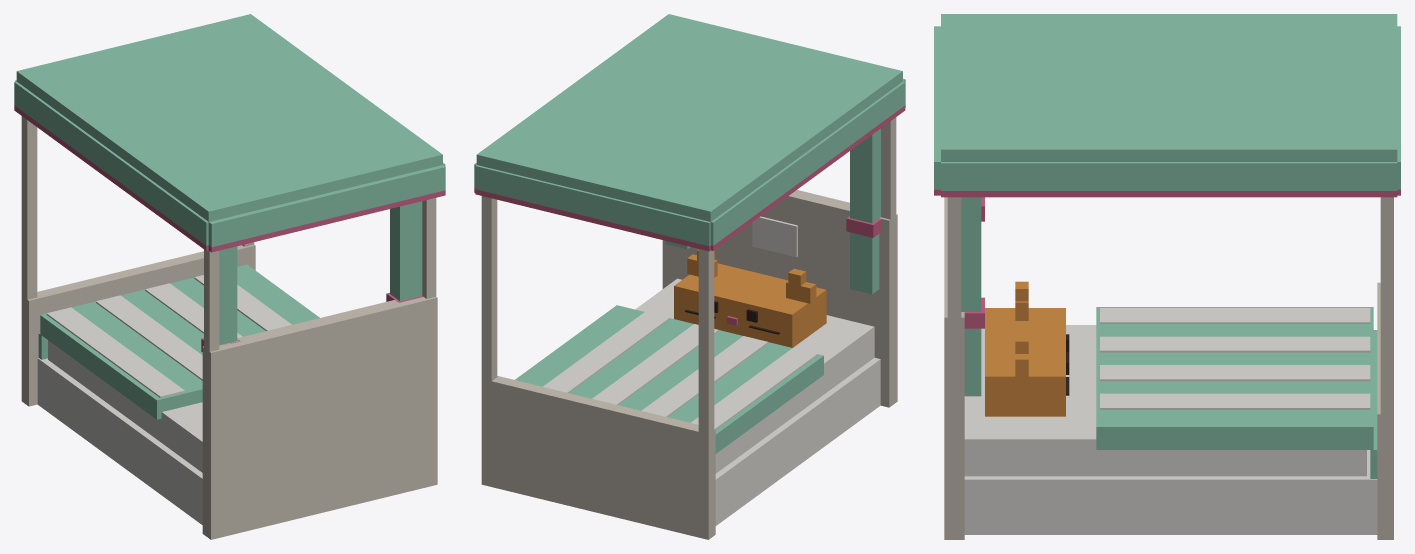
The model's file is ncb-bed-mint.glb.
3 views of the same model, side by side, from view 1: azimuth 30°, elevation 25°; view 2: azimuth 150°, elevation 25°; view 3: azimuth 270°, elevation 25° (orthographic). The views are drawn at different scales.
Visible parts, largest first — view 1: box-prop; view 2: box-prop; view 3: box-prop.
Boxes of the visible parts, x1,y1,x2,y2 form: box-prop: (14, 14, 445, 539); box-prop: (474, 14, 905, 539); box-prop: (934, 14, 1400, 539).
Size of the model in its own units: 1.94 by 2.56 by 2.76.
